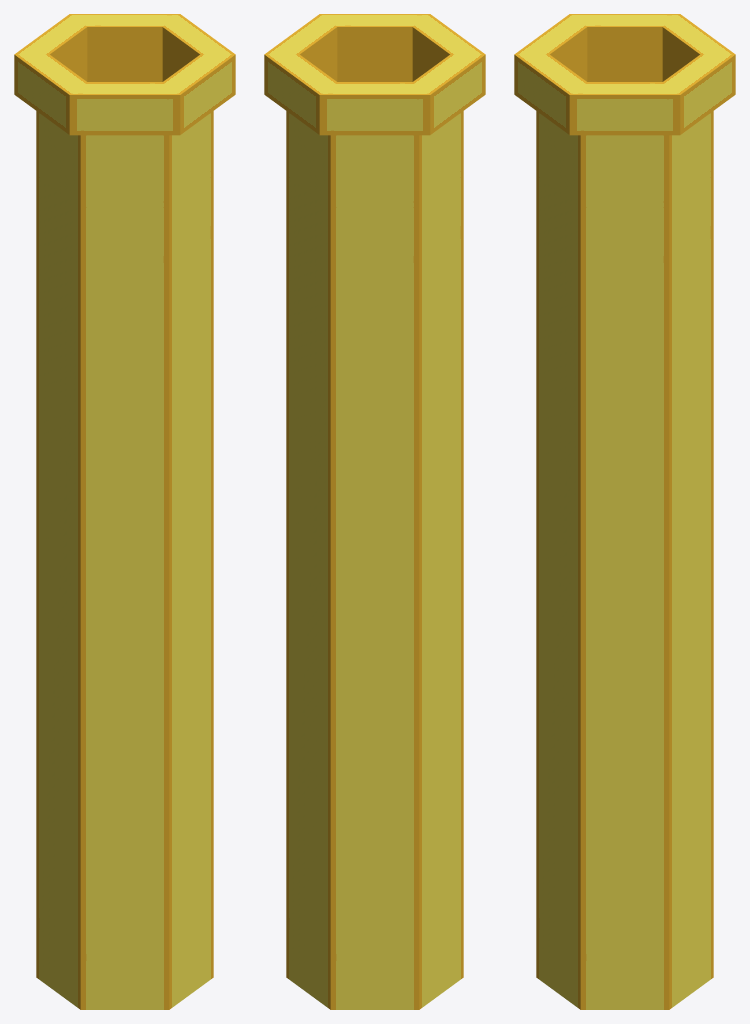
The model's file is gold_pipe.glb.
3 renders of one model, left to right at view 1: azimuth 30°, elevation 25°; view 2: azimuth 150°, elevation 25°; view 3: azimuth 270°, elevation 25°, orthographic.
Parts seen in each view (by area): view 1: Cylinder; view 2: Cylinder; view 3: Cylinder.
Boxes of the visible parts, box(x1,y1,x2,y2) form: Cylinder: box(14, 14, 235, 1009); Cylinder: box(264, 14, 485, 1009); Cylinder: box(514, 14, 735, 1009).
Size of the model in its own units: 2.17 by 11.5 by 2.5.
1 material, 1 textured.
